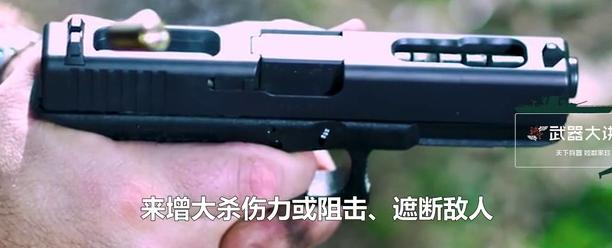gun: (1, 1, 612, 248)
